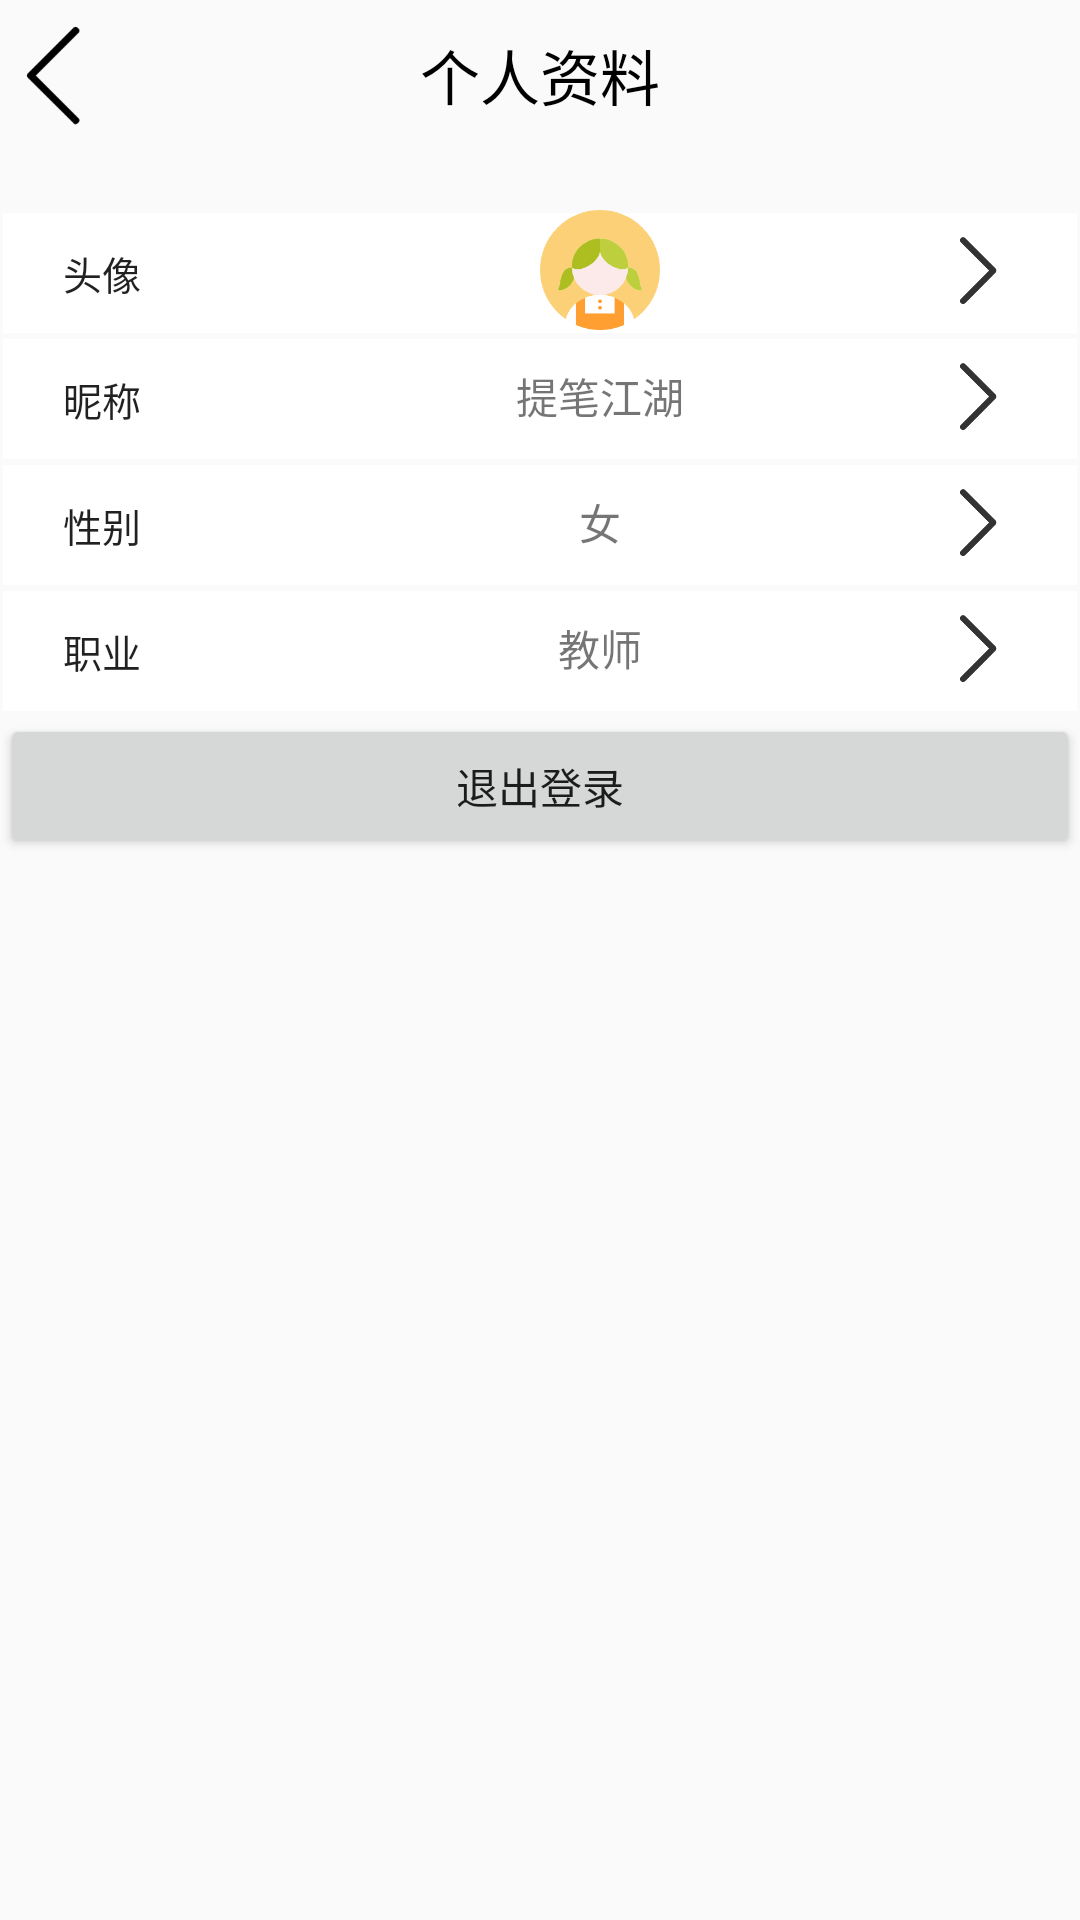

Locate icon controls on the screen. Image size 1080x1920, boxes as {"x1": x1, "y1": y1, "x2": x2, "y2": y2}.
back: {"x1": 26, "y1": 26, "x2": 80, "y2": 125}
girl: {"x1": 540, "y1": 210, "x2": 660, "y2": 330}
more arrow: {"x1": 960, "y1": 237, "x2": 997, "y2": 304}, {"x1": 960, "y1": 363, "x2": 997, "y2": 430}, {"x1": 960, "y1": 489, "x2": 997, "y2": 556}, {"x1": 960, "y1": 615, "x2": 997, "y2": 682}
